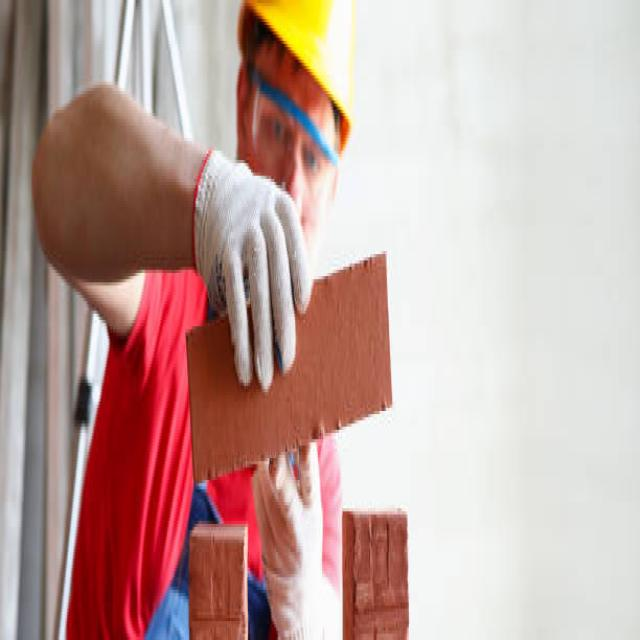gloves: (193, 151, 314, 389), (252, 445, 341, 640)
